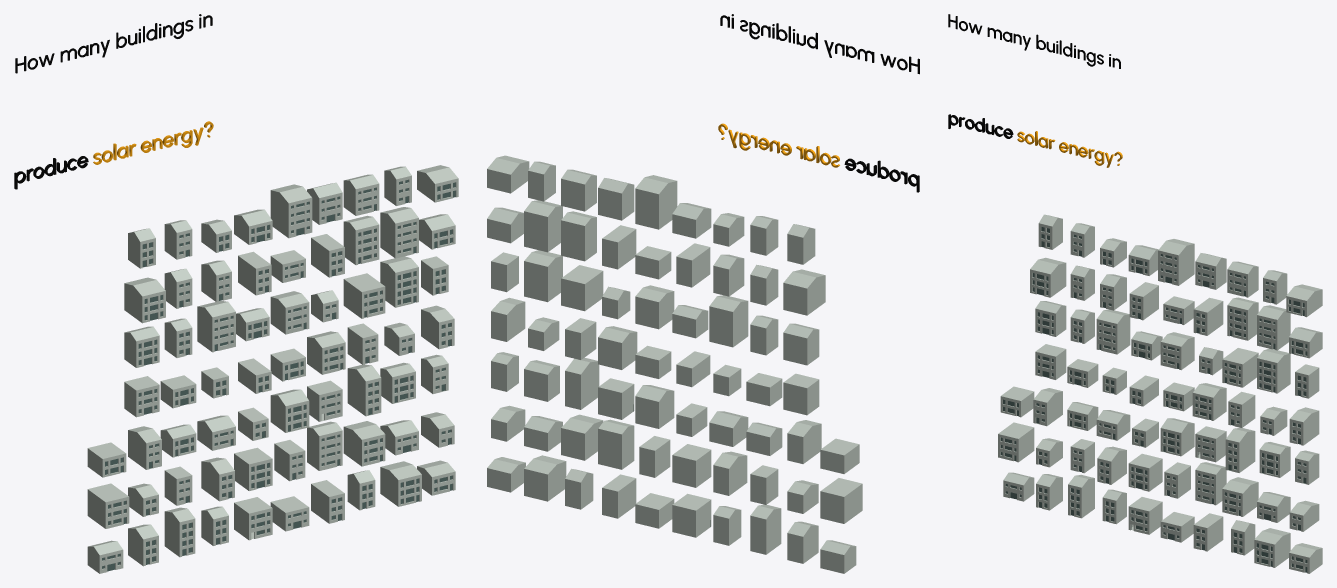
Rendered from Sahne1Mevcut.gltf.
3 renders of one model, left to right at view 1: azimuth 30°, elevation 25°; view 2: azimuth 150°, elevation 25°; view 3: azimuth 330°, elevation 25°, orthographic. The views are drawn at different scales.
Visible parts, largest first — view 1: Building_049.006, Building_037.006, Building_071.006, Building_068.006, Building_072.006, Building_061.006, Building_065.006, Building_067.006, Building_020, Building_064.006, Text.015, Building_076.006 (+57 smaller); view 2: Building_049.006, Building_037.006, Building_072.006, Building_071.006, Building_022.006, Building_061.006, Building_076.006, Building_020, Building_065.006, Building_064.006, Building_067.006, Building_068.006 (+57 smaller); view 3: Building_049.006, Building_037.006, Building_071.006, Building_072.006, Building_067.006, Text.015, Building_068.006, Building_020, Building_022.006, Building_076.006, Building_061.006, Building_065.006 (+57 smaller).
Part boxes in pixels (x1=…): Building_049.006: x1=270, y1=184, x2=312, y2=238; Building_037.006: x1=197, y1=300, x2=235, y2=352; Building_071.006: x1=380, y1=207, x2=418, y2=258; Building_068.006: x1=343, y1=421, x2=385, y2=466; Building_072.006: x1=380, y1=256, x2=418, y2=307; Building_061.006: x1=307, y1=421, x2=342, y2=470; Building_065.006: x1=343, y1=273, x2=385, y2=318; Building_067.006: x1=347, y1=364, x2=381, y2=416; Building_020: x1=87, y1=483, x2=129, y2=528; Building_064.006: x1=343, y1=215, x2=379, y2=265; Text.015: x1=15, y1=14, x2=212, y2=73; Building_076.006: x1=380, y1=461, x2=421, y2=506; Building_049.006: x1=635, y1=175, x2=677, y2=229; Building_037.006: x1=709, y1=295, x2=748, y2=347; Building_072.006: x1=524, y1=250, x2=562, y2=302; Building_071.006: x1=524, y1=200, x2=562, y2=252; Building_022.006: x1=783, y1=269, x2=825, y2=315; Building_061.006: x1=598, y1=419, x2=634, y2=469; Building_076.006: x1=524, y1=455, x2=566, y2=501; Building_020: x1=820, y1=478, x2=862, y2=523; Building_065.006: x1=561, y1=265, x2=603, y2=311; Building_064.006: x1=561, y1=211, x2=596, y2=261; Building_067.006: x1=565, y1=357, x2=599, y2=409; Building_068.006: x1=561, y1=414, x2=603, y2=460; Building_049.006: x1=1158, y1=239, x2=1194, y2=285; Building_037.006: x1=1096, y1=309, x2=1130, y2=354; Building_071.006: x1=1257, y1=305, x2=1290, y2=350; Building_072.006: x1=1257, y1=348, x2=1290, y2=393; Building_067.006: x1=1225, y1=427, x2=1255, y2=472; Text.015: x1=948, y1=14, x2=1120, y2=68; Building_068.006: x1=1222, y1=477, x2=1258, y2=516; Building_020: x1=998, y1=422, x2=1034, y2=462; Building_022.006: x1=1030, y1=257, x2=1066, y2=297; Building_076.006: x1=1254, y1=528, x2=1290, y2=567; Building_061.006: x1=1195, y1=462, x2=1226, y2=505; Building_065.006: x1=1222, y1=348, x2=1258, y2=387.
Size of the model in its own units: 0.8859 by 1.05 by 0.0652.
